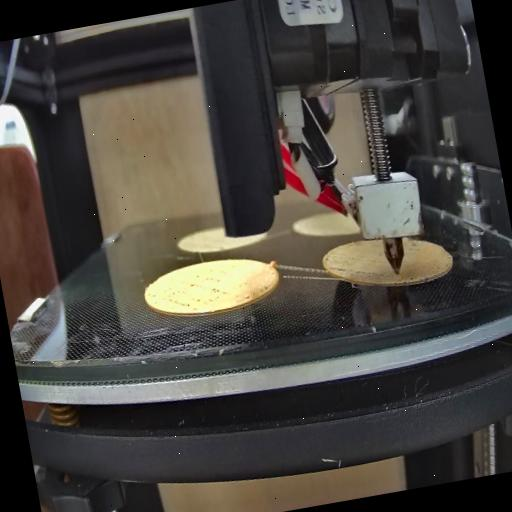under_extrusion: (145, 264, 232, 319), (322, 251, 379, 290), (392, 252, 450, 288), (234, 278, 272, 308)
